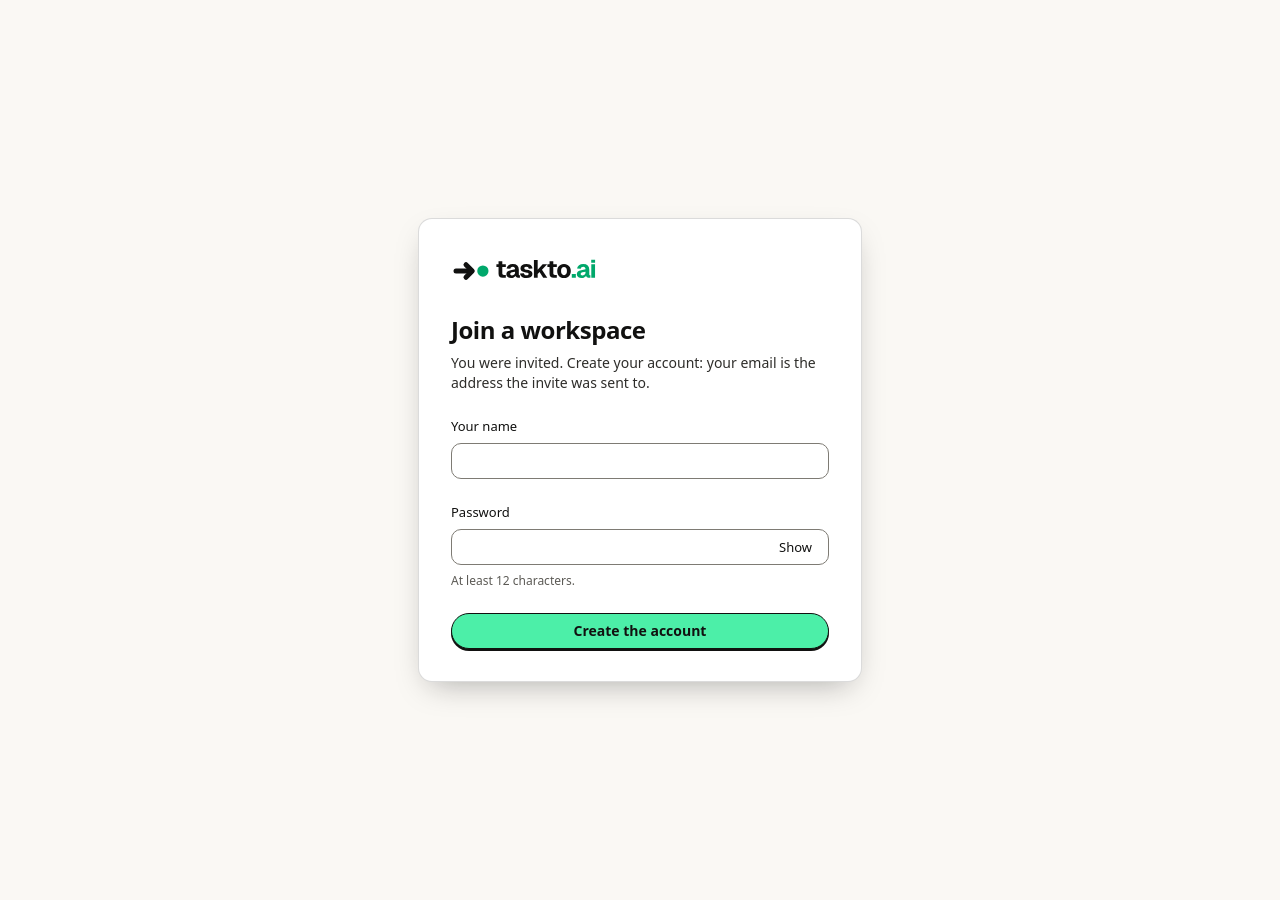
an invite link creates the account and opens the workspace, without the token in the URL
Expected: the heading "Join a workspace" is shown, [451,313,646,346]
Step 1. Type "New" into the field labelled "Your name" → (640,461), box [451,443,829,479]
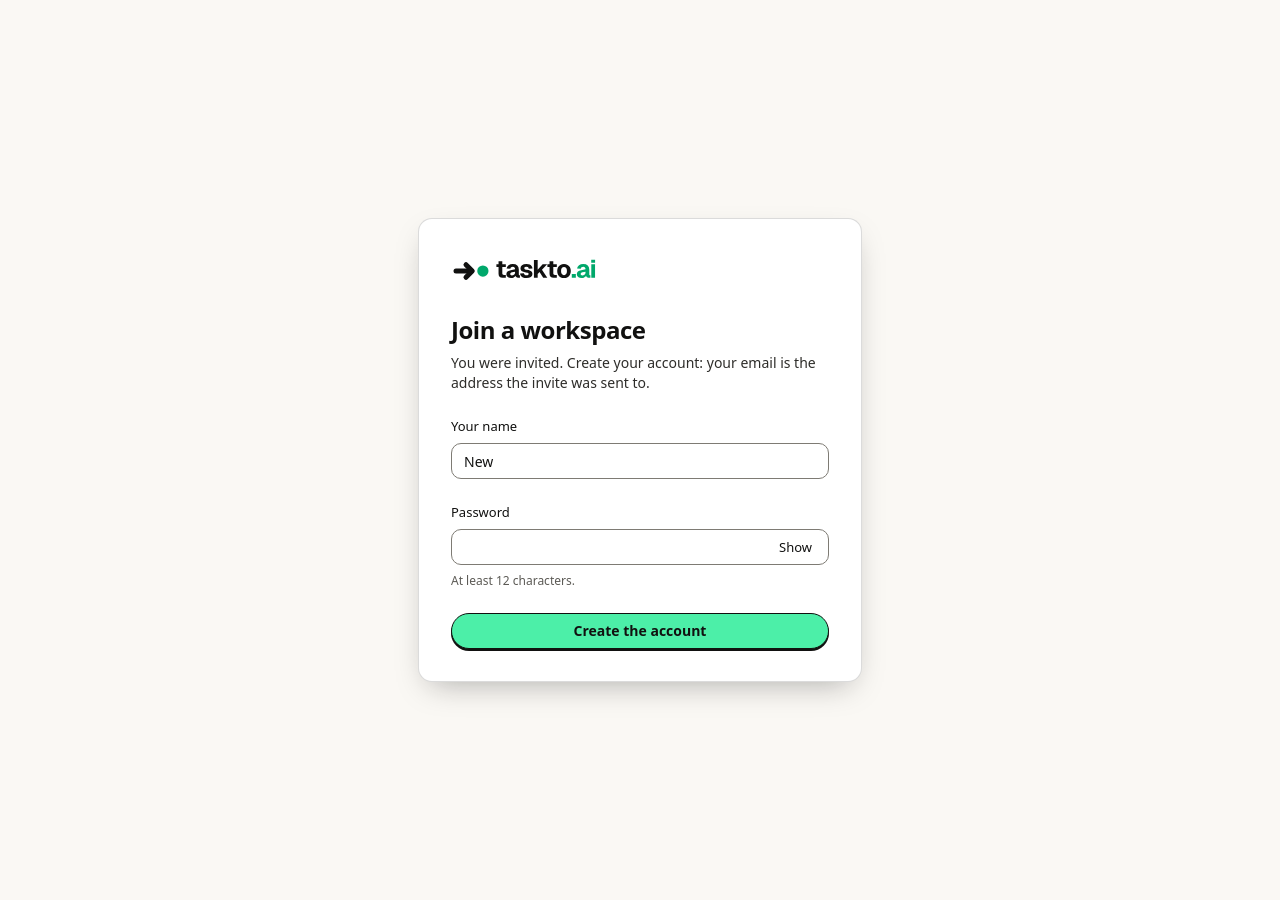
Step 2. Type "fake-password-123" into the password field labelled "Password" → (640,547), box [451,529,829,565]
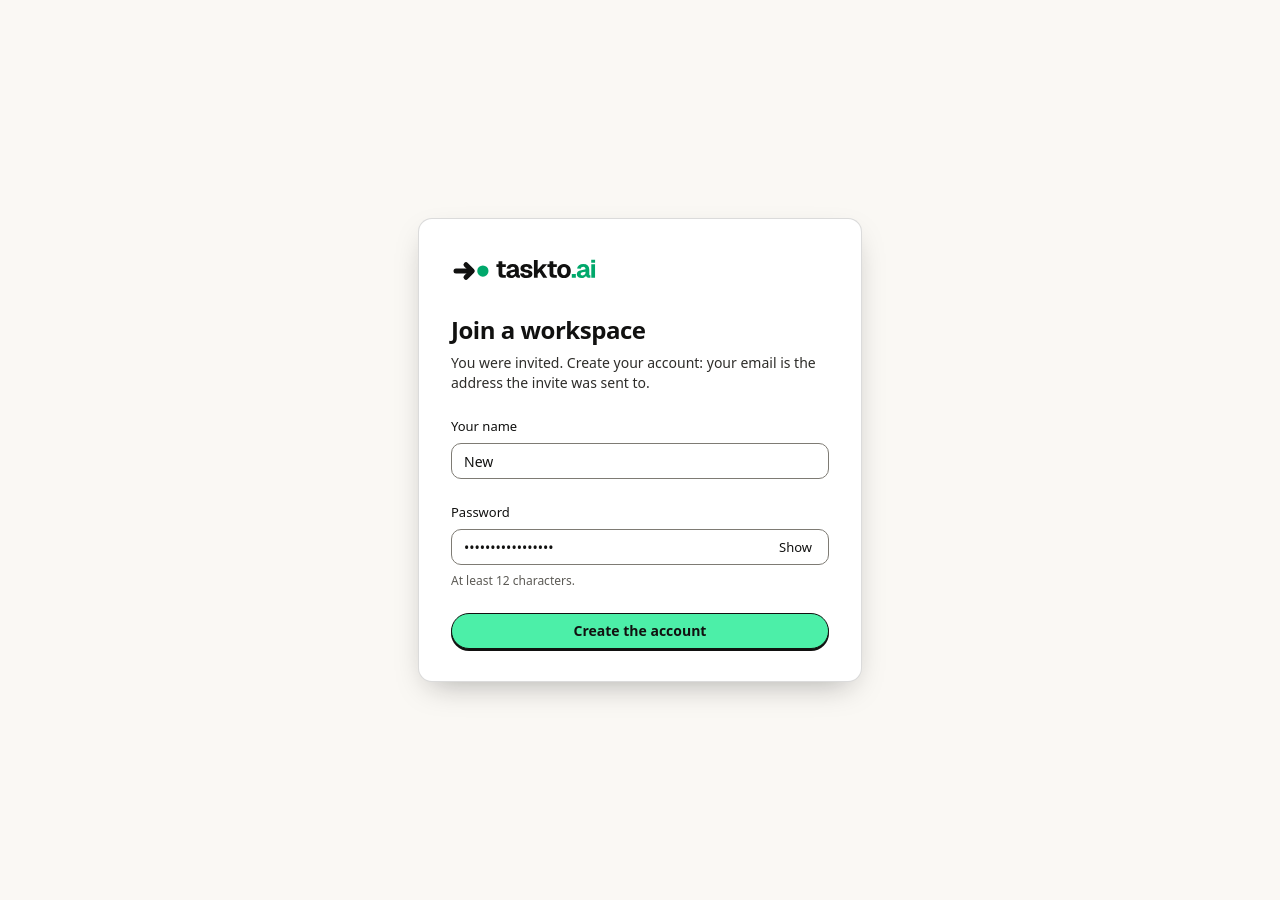
Step 3. Click the button "Create the account" → (640,631), box [451,613,829,649]
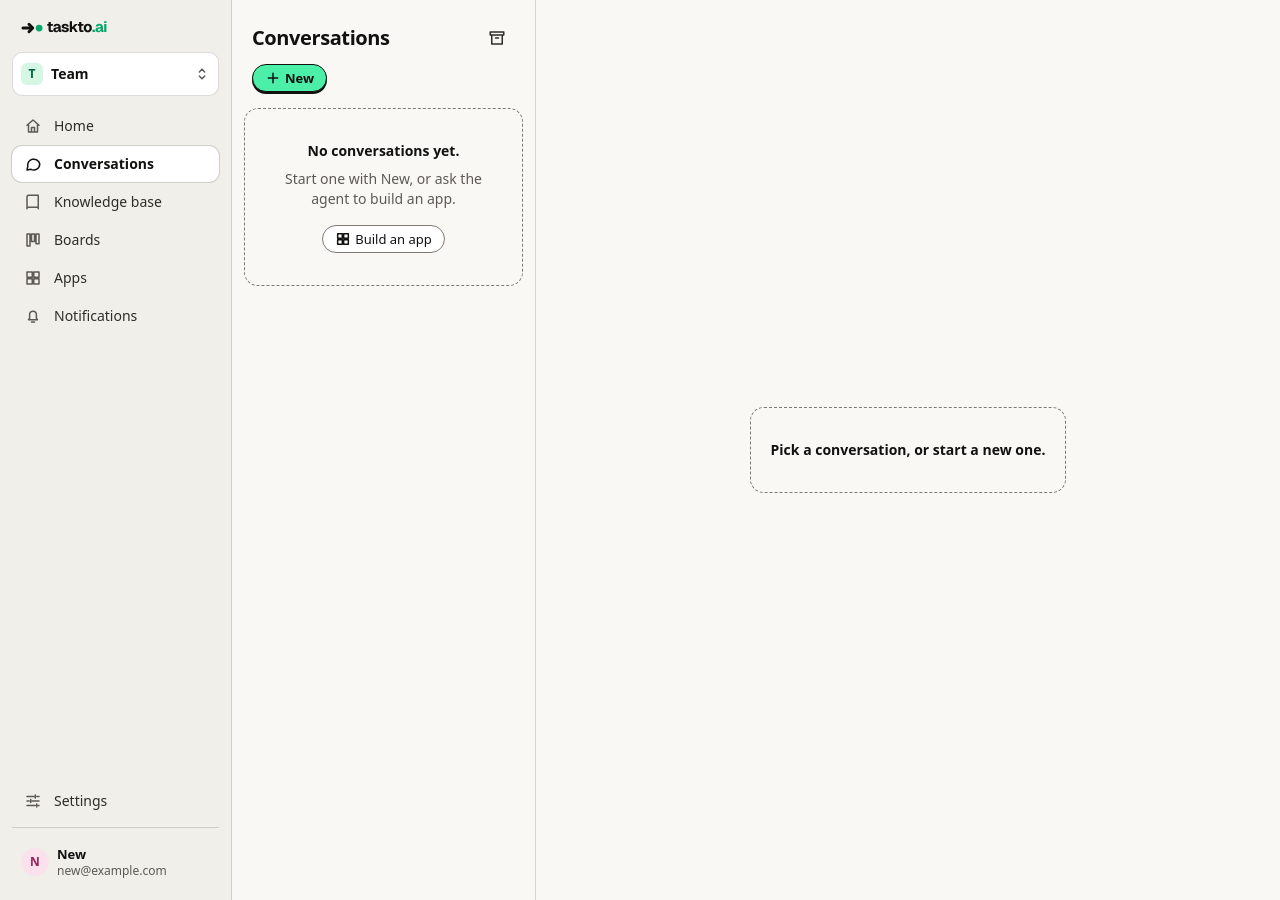
Expected: the navigation bar named "Sections" is shown, [12,108,219,819]
